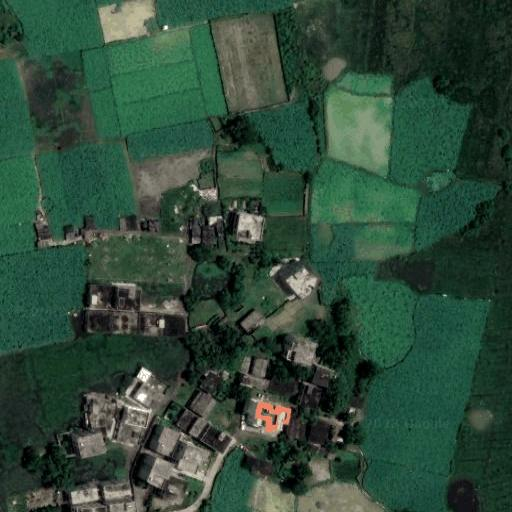building: (285, 263, 322, 300), (255, 400, 293, 435), (200, 424, 235, 455), (180, 444, 211, 474), (177, 411, 209, 440), (147, 456, 176, 487), (235, 213, 265, 241), (291, 338, 317, 369), (76, 432, 105, 458), (189, 391, 216, 418), (157, 427, 180, 457), (163, 477, 188, 504), (137, 311, 164, 336), (299, 384, 324, 410), (238, 310, 264, 335), (132, 383, 158, 407), (112, 311, 138, 335), (88, 309, 114, 333), (308, 419, 329, 447), (121, 408, 150, 427), (199, 372, 224, 394), (118, 423, 142, 445), (270, 376, 295, 397), (243, 376, 272, 392), (313, 366, 335, 387), (117, 288, 140, 307), (251, 357, 269, 380), (91, 401, 114, 418), (71, 489, 97, 504), (103, 484, 130, 498), (111, 501, 135, 512), (190, 223, 201, 245), (350, 393, 365, 407), (82, 505, 105, 512), (97, 417, 110, 428), (208, 217, 220, 224)
